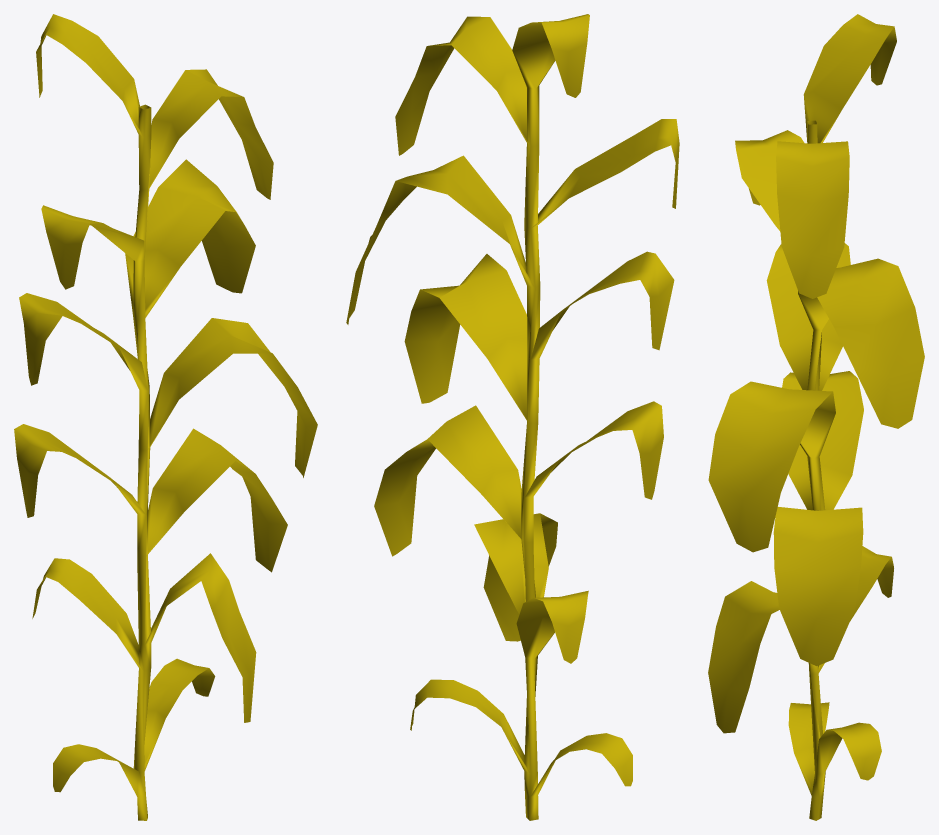
Rendered from corn_05.fbx.
3 views of the same model, side by side, from view 1: azimuth 30°, elevation 25°; view 2: azimuth 150°, elevation 25°; view 3: azimuth 270°, elevation 25° (orthographic). The views are drawn at different scales.
Parts seen in each view (by area): view 1: Cube; view 2: Cube; view 3: Cube.
Boxes of the visible parts, x1,y1,x2,y2 form: Cube: [14, 14, 317, 820]; Cube: [346, 14, 679, 820]; Cube: [708, 14, 924, 820].
Size of the model in its own units: 58.46 by 174 by 44.41.
